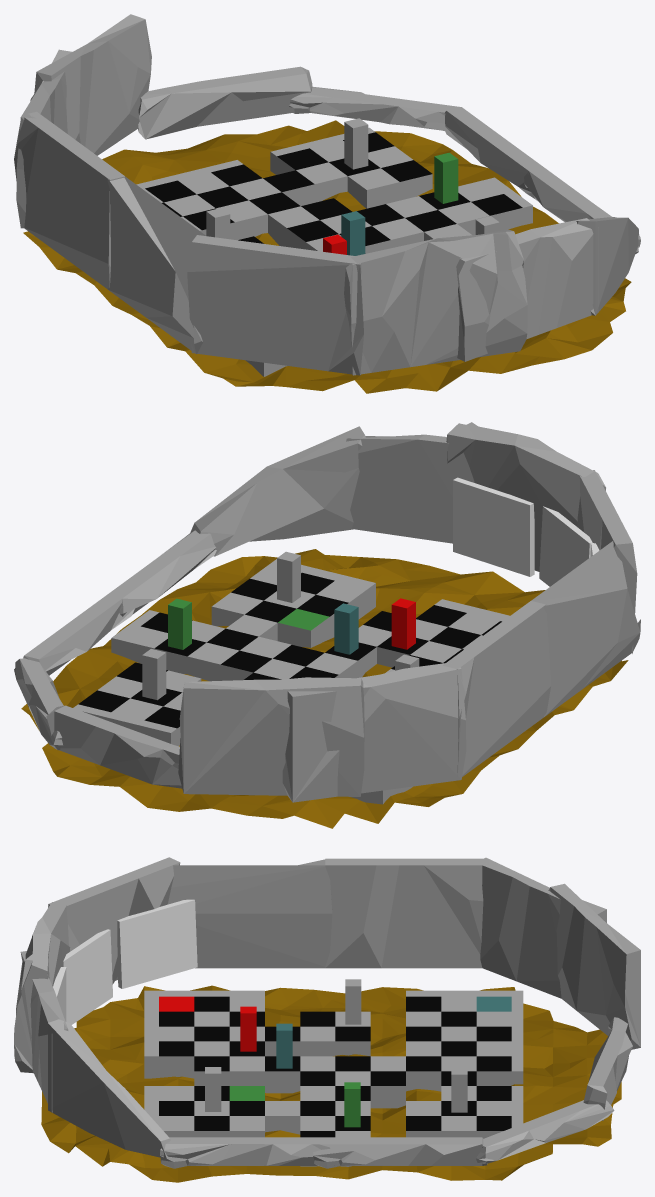
The model's file is Fire_Puzzle_New.fbx.
The picture shows the model from 3 angles, top to bottom: view 1: azimuth 30°, elevation 25°; view 2: azimuth 150°, elevation 25°; view 3: azimuth 270°, elevation 25°; orthographic projection. The views are drawn at different scales.
Parts seen in each view (by area): view 1: pPlane1, lava, pared1, pared_10, pared_6, pared_5, pared_3, pared_12, pared_8, pared_7, pared_11, pared_2 (+6 smaller); view 2: pPlane1, lava, pared_9, pared_12, pared_2, pared_6, pared_5, pared_3, pared_10, panel1, pared_8, pared_4 (+9 smaller); view 3: pPlane1, lava, pared_6, pared_5, pared_12, pared_9, pared_2, panel_2, pared1, pared_11, pared_4, pared_10 (+11 smaller).
Part boxes in pixels (x1=…): pPlane1: x1=136, y1=127, x2=532, y2=376; lava: x1=23, y1=120, x2=631, y2=393; pared1: x1=187, y1=235, x2=363, y2=375; pared_10: x1=344, y1=229, x2=527, y2=375; pared_6: x1=14, y1=111, x2=124, y2=288; pared_5: x1=107, y1=176, x2=205, y2=354; pared_3: x1=456, y1=218, x2=598, y2=361; pared_12: x1=34, y1=14, x2=151, y2=155; pared_8: x1=138, y1=66, x2=312, y2=139; pared_7: x1=288, y1=86, x2=460, y2=132; pared_11: x1=444, y1=107, x2=549, y2=198; pared_2: x1=576, y1=217, x2=639, y2=315; pPlane1: x1=73, y1=559, x2=509, y2=804; lava: x1=21, y1=549, x2=628, y2=828; pared_9: x1=282, y1=663, x2=466, y2=802; pared_12: x1=178, y1=677, x2=364, y2=796; pared_2: x1=190, y1=426, x2=365, y2=556; pared_6: x1=443, y1=601, x2=551, y2=780; pared_5: x1=531, y1=541, x2=640, y2=716; pared_3: x1=346, y1=434, x2=474, y2=543; pared_10: x1=446, y1=422, x2=605, y2=571; panel1: x1=453, y1=477, x2=534, y2=576; pared_8: x1=46, y1=705, x2=182, y2=788; pared_4: x1=107, y1=530, x2=216, y2=616; pPlane1: x1=144, y1=990, x2=523, y2=1166; lava: x1=41, y1=985, x2=621, y2=1182; pared_6: x1=325, y1=858, x2=488, y2=968; pared_5: x1=167, y1=859, x2=332, y2=968; pared_12: x1=548, y1=883, x2=640, y2=1049; pared_9: x1=476, y1=857, x2=606, y2=998; pared_2: x1=48, y1=1019, x2=170, y2=1158; panel_2: x1=117, y1=899, x2=197, y2=988; pared1: x1=48, y1=857, x2=180, y2=984; pared_11: x1=313, y1=1137, x2=487, y2=1168; pared_4: x1=160, y1=1137, x2=330, y2=1168; pared_10: x1=14, y1=902, x2=70, y2=1073.
Bounding box in the file's own units: 29.66 × 9.81 × 38.46.
